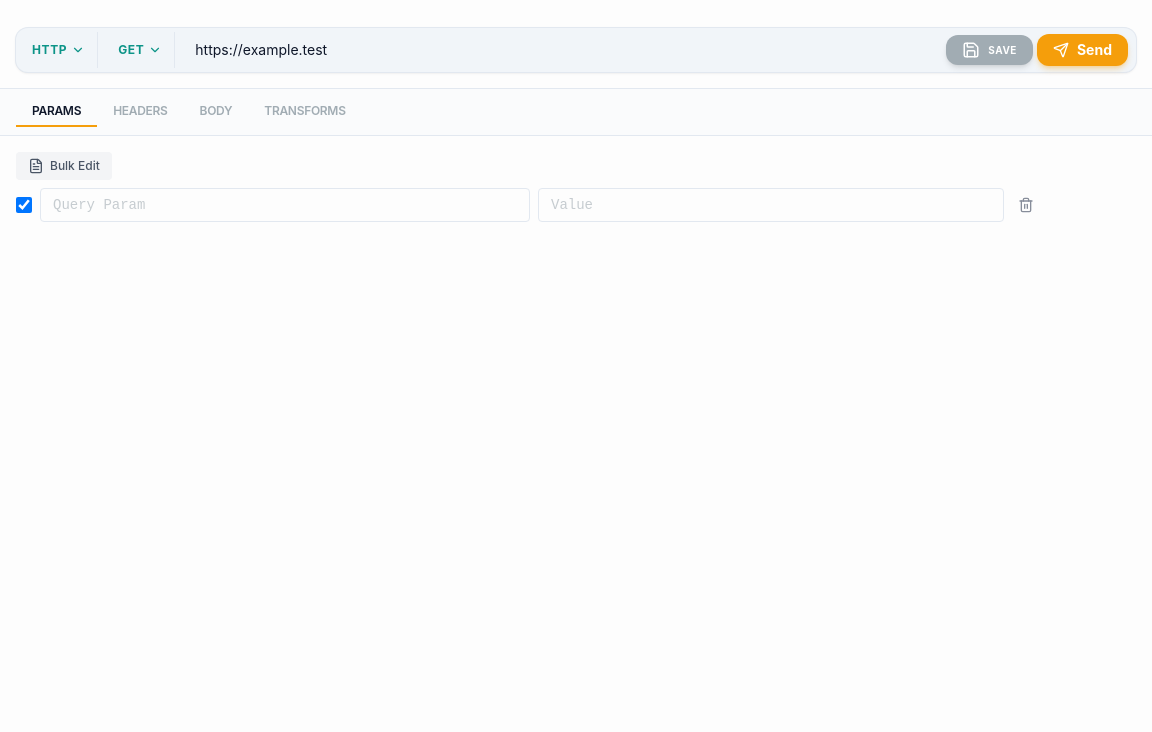
it: RequestEditor transforms section › adds an extraction rule and a chain step
Expected: the button "GET" is shown, [106,42,174,58]
Click the button "transforms" at (305, 112), box [248,97,362,127]
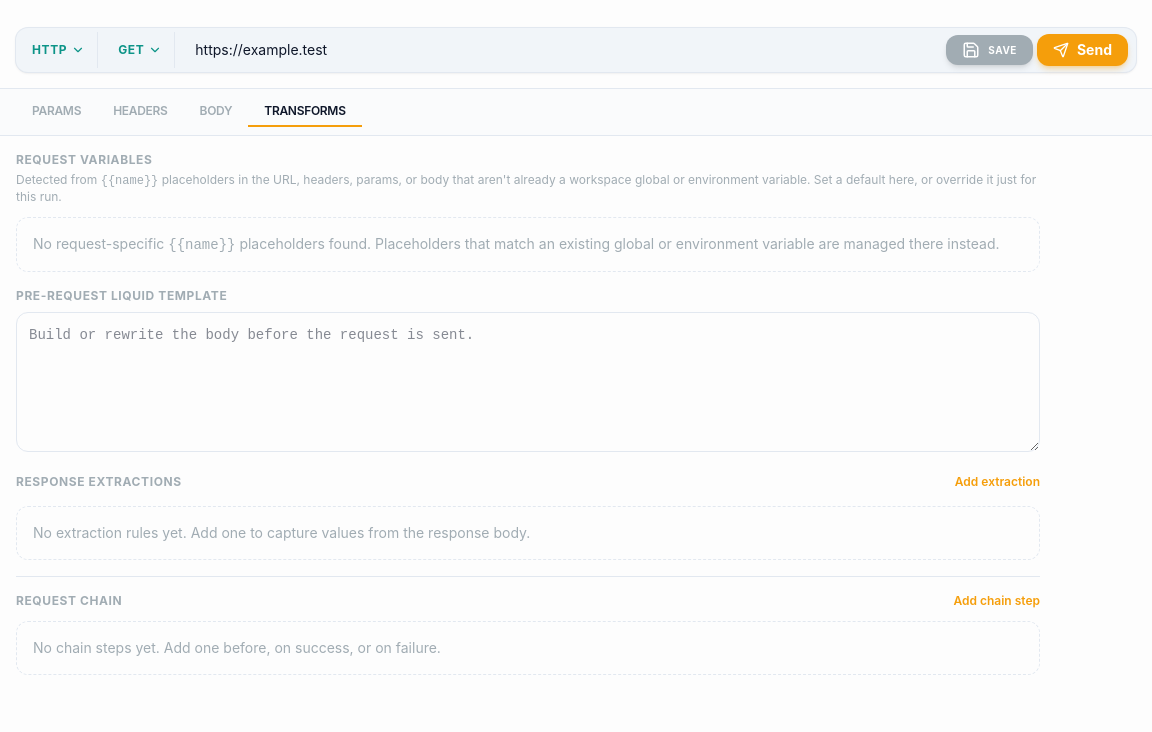
Result: the element with test id "request-editor-transforms-section" is shown
Click the button "Add extraction" at (997, 482), box [955,474,1040,490]
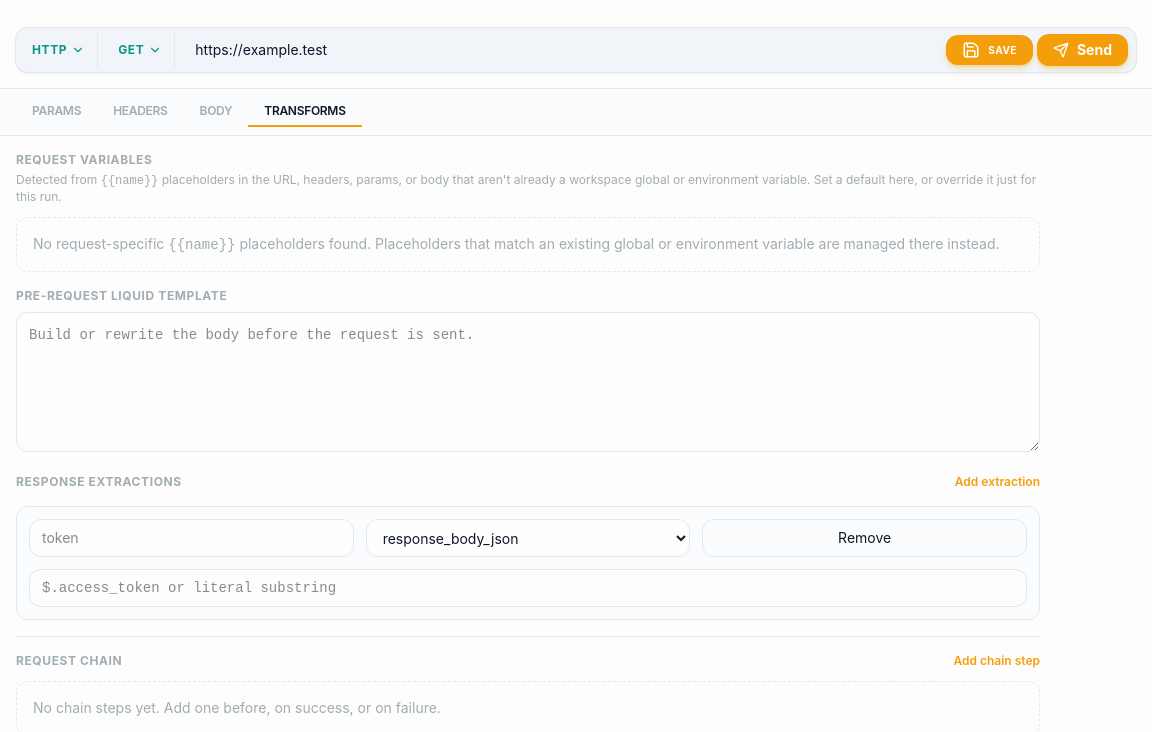
Result: the field with placeholder "token" is shown at [29,519,354,557]
Click the button "Add chain step" at (997, 661), box [953,653,1040,669]
(page scrolled)
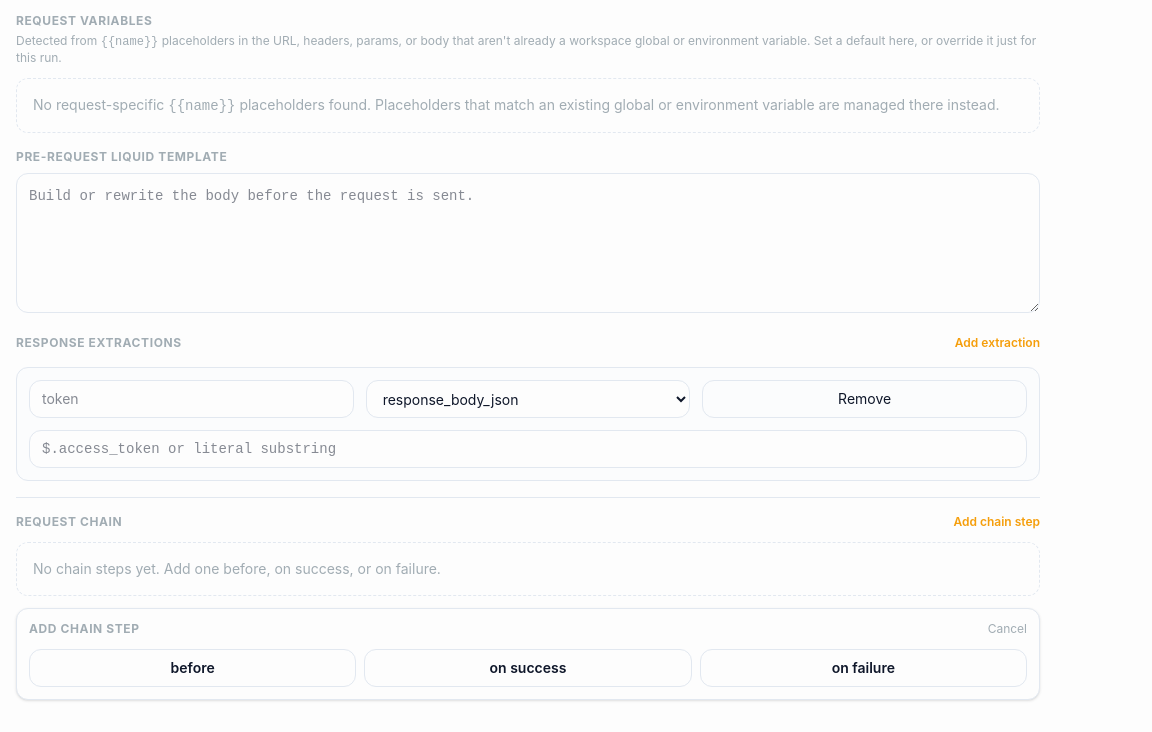
Result: the button "on success" is shown
Click the button "on success" at (528, 668), box [364,649,692,687]
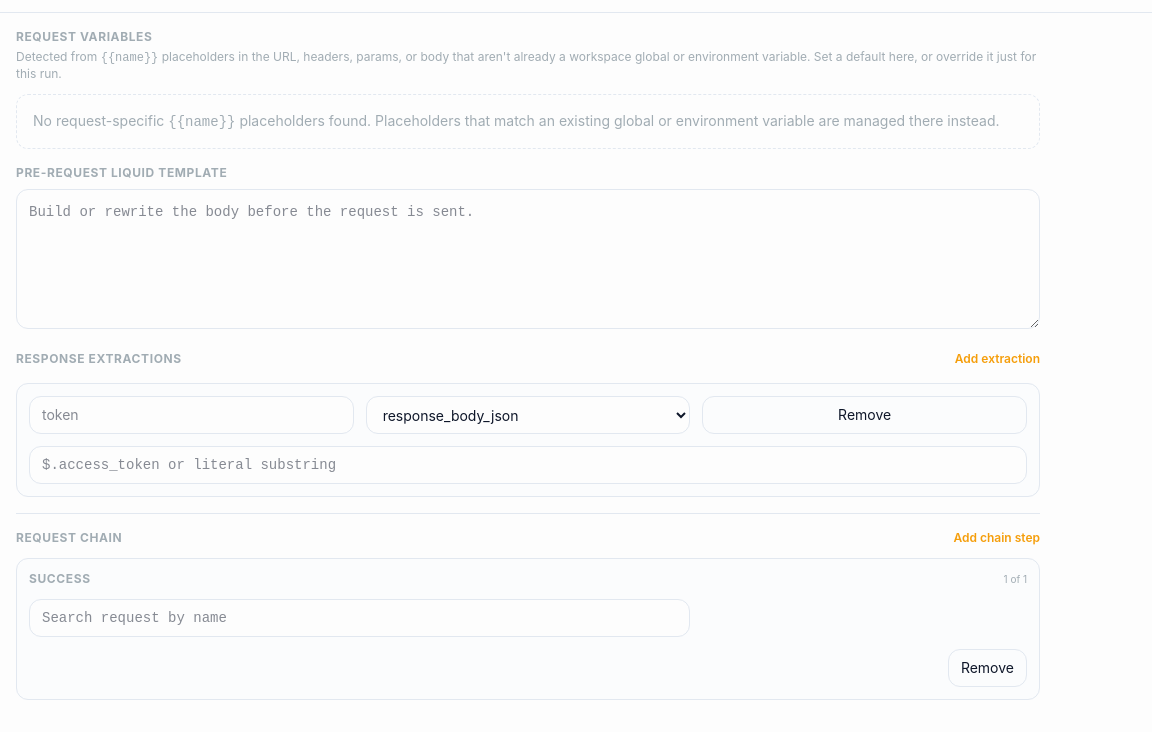
Result: the text "success" is shown at [29,571,91,587]
